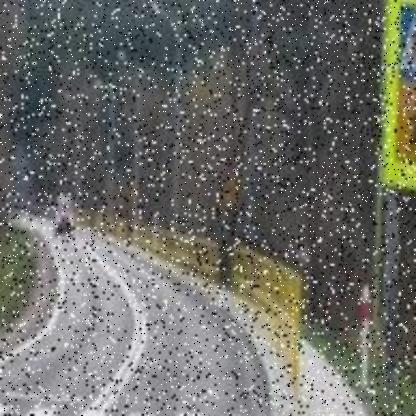Pedestrian Crossing: (397, 1, 416, 84)
